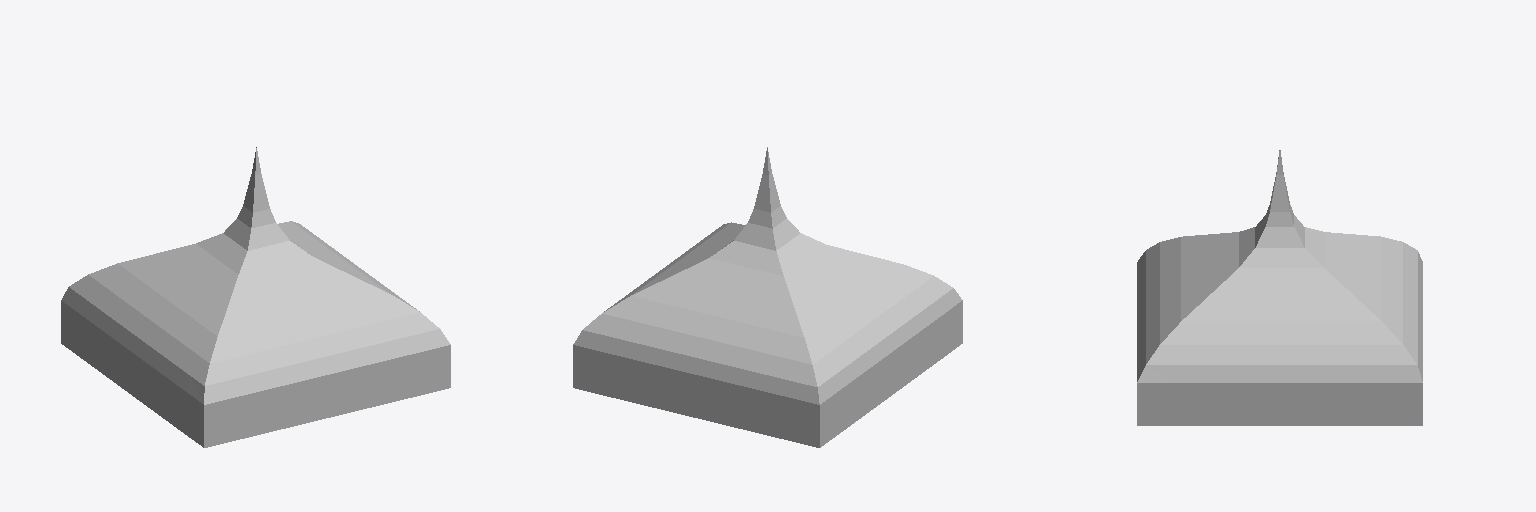
Rendered from PointyBuilding.obj.
The picture shows the model from 3 angles: view 1: azimuth 30°, elevation 25°; view 2: azimuth 150°, elevation 25°; view 3: azimuth 270°, elevation 25°; orthographic projection.
Visible parts, largest first — view 1: Grid; view 2: Grid; view 3: Grid.
Part boxes in pixels (bbox=[...]): Grid: bbox=[61, 147, 450, 447]; Grid: bbox=[573, 147, 962, 447]; Grid: bbox=[1137, 150, 1422, 425].
Bounding box in the file's own units: 53.74 × 45.72 × 54.